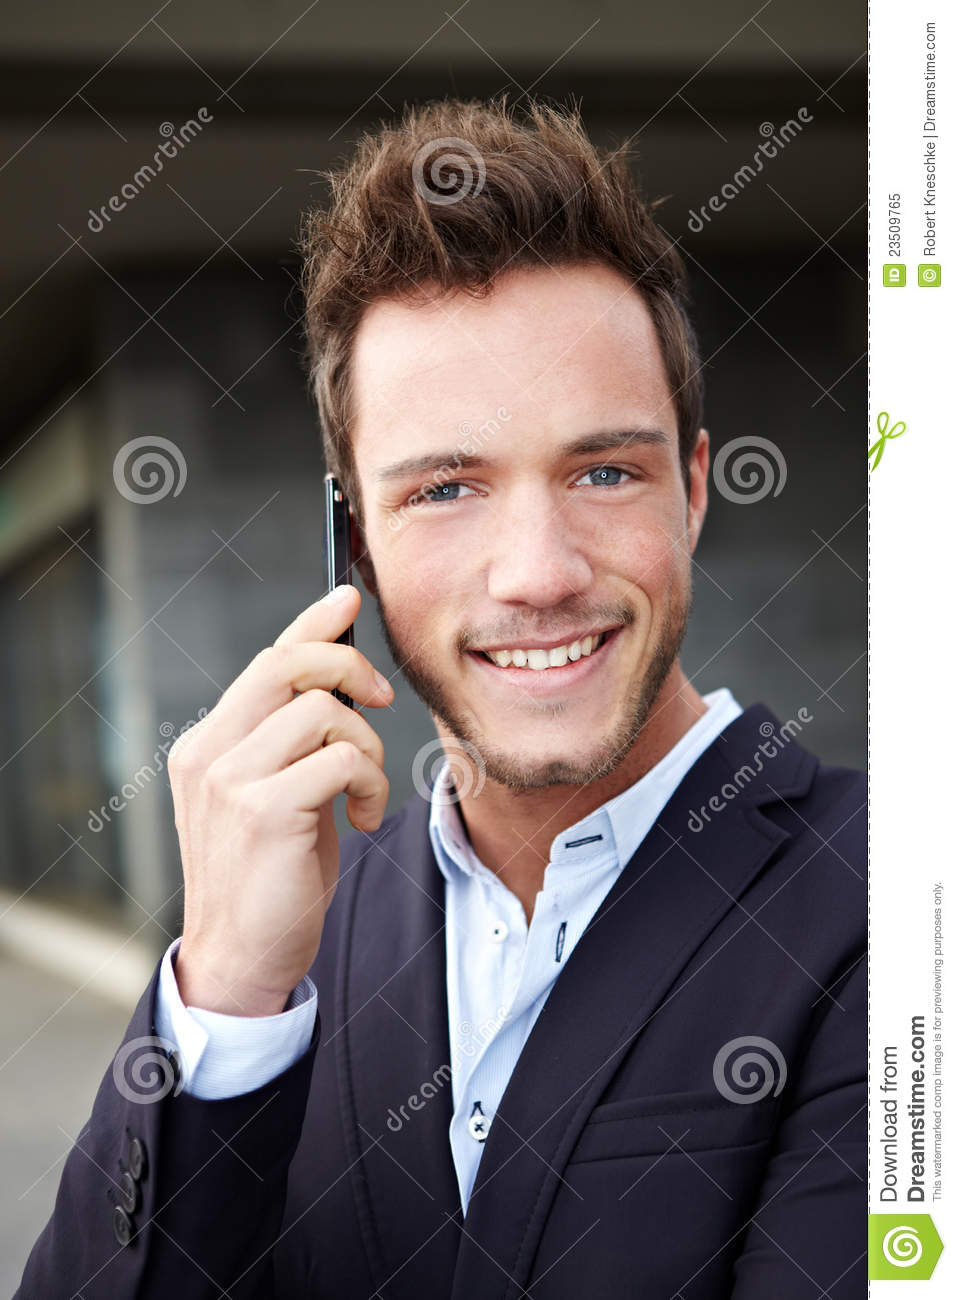phone: (322, 469, 367, 773)
talk: (159, 415, 689, 1003)
